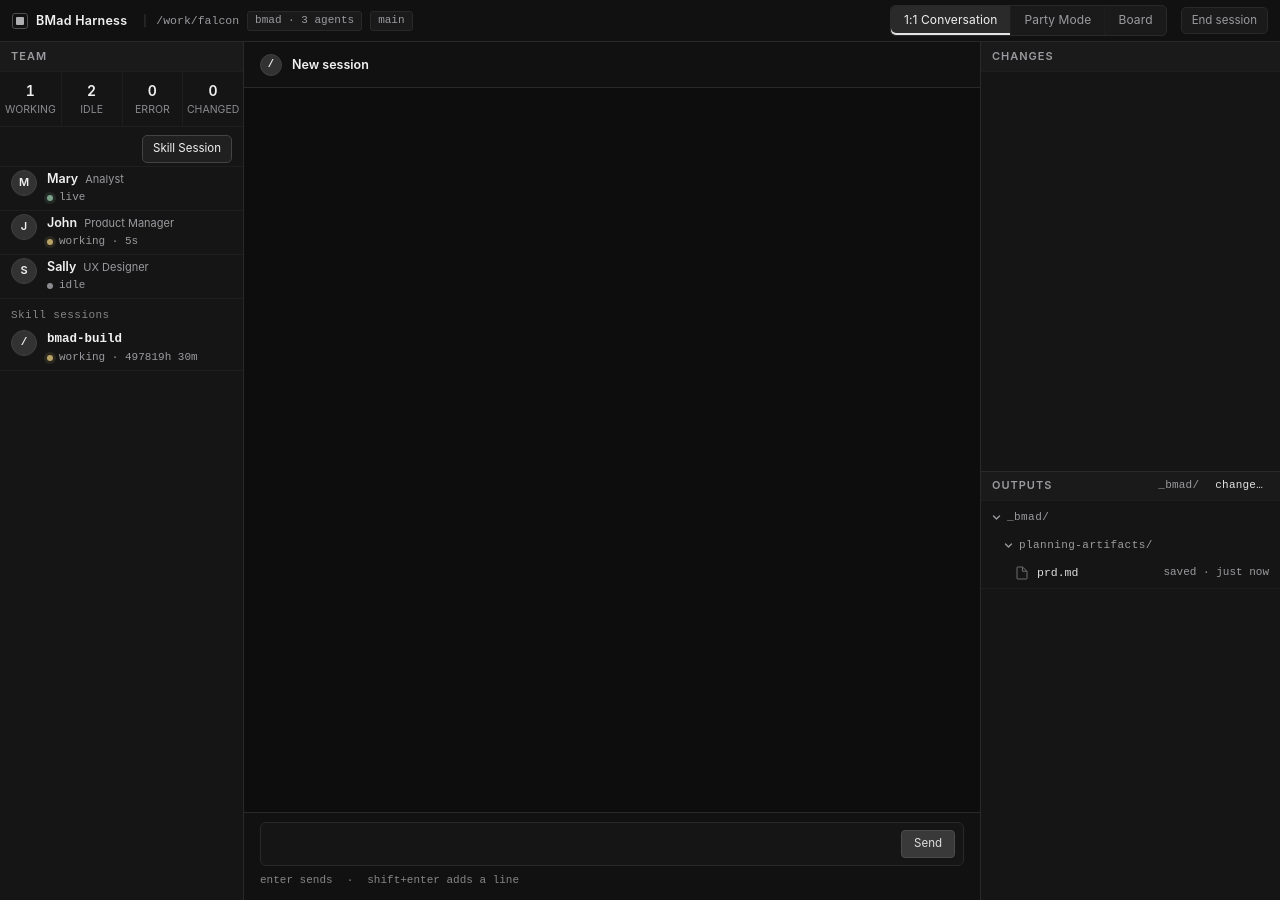
Scenario: a skill-first run beside a populated Board (Story 7.5) › is in no column and on no card, and owns no story or file: no owner, no path, no annotation on a document it wrote
(page scrolled)
What coordinates should you click on to do the following:
click the button "Board"
I would click on:
 (1136, 20)
Its box is top-left (1106, 6), bottom-right (1166, 35).
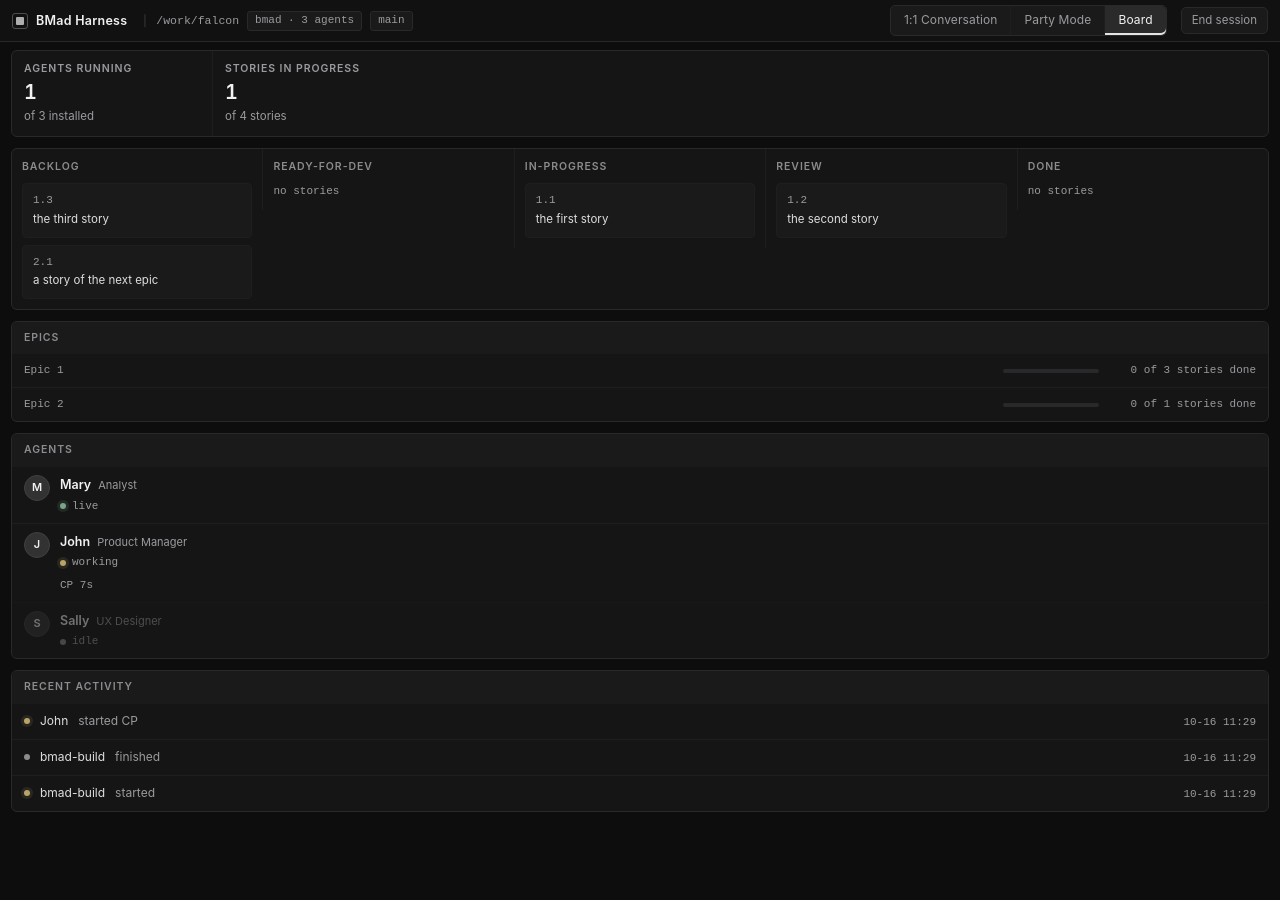
Expected: the button with class "board-stories" no longer shows "prd.md"
Expected: the button with class "board-epics" no longer shows "prd.md"
Expected: the button with class "board-agents" no longer shows "prd.md"
